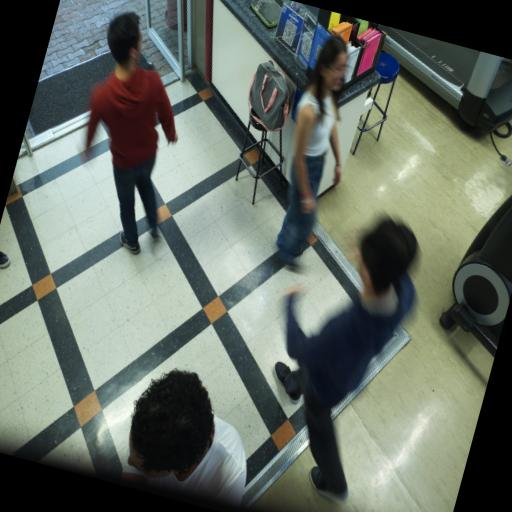person: (275, 219, 417, 501), (87, 13, 177, 254), (122, 370, 246, 506), (277, 36, 347, 266), (0, 251, 10, 268)
